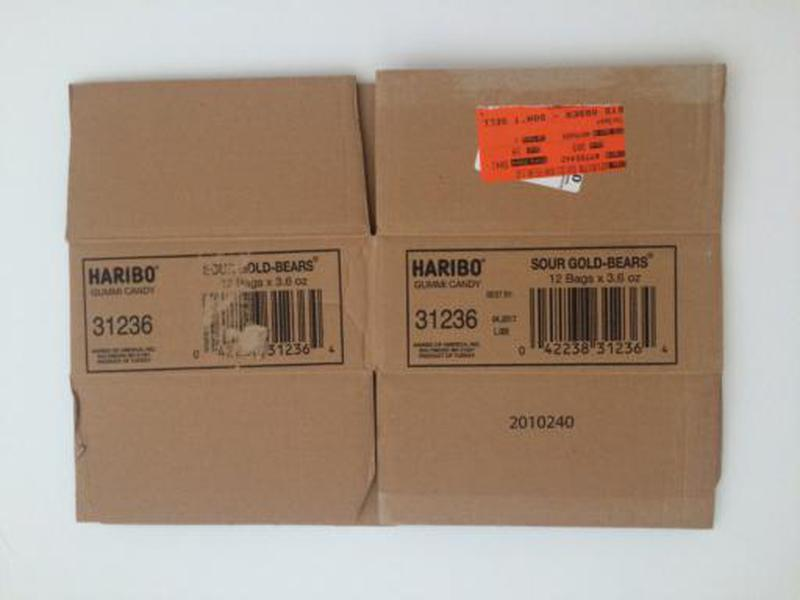cardboard: (67, 61, 730, 529)
